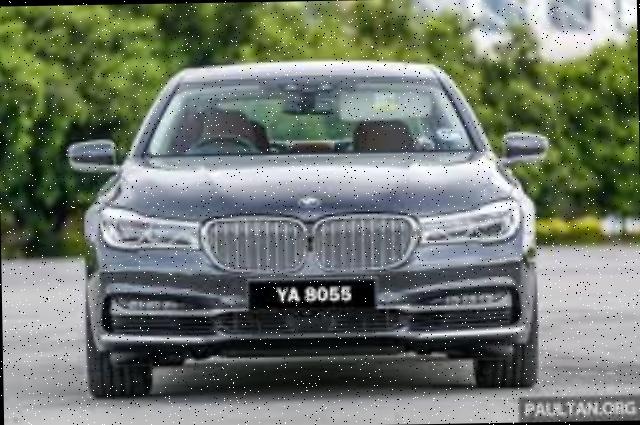License_Plate: (241, 272, 382, 328)
car: (67, 54, 548, 403)
